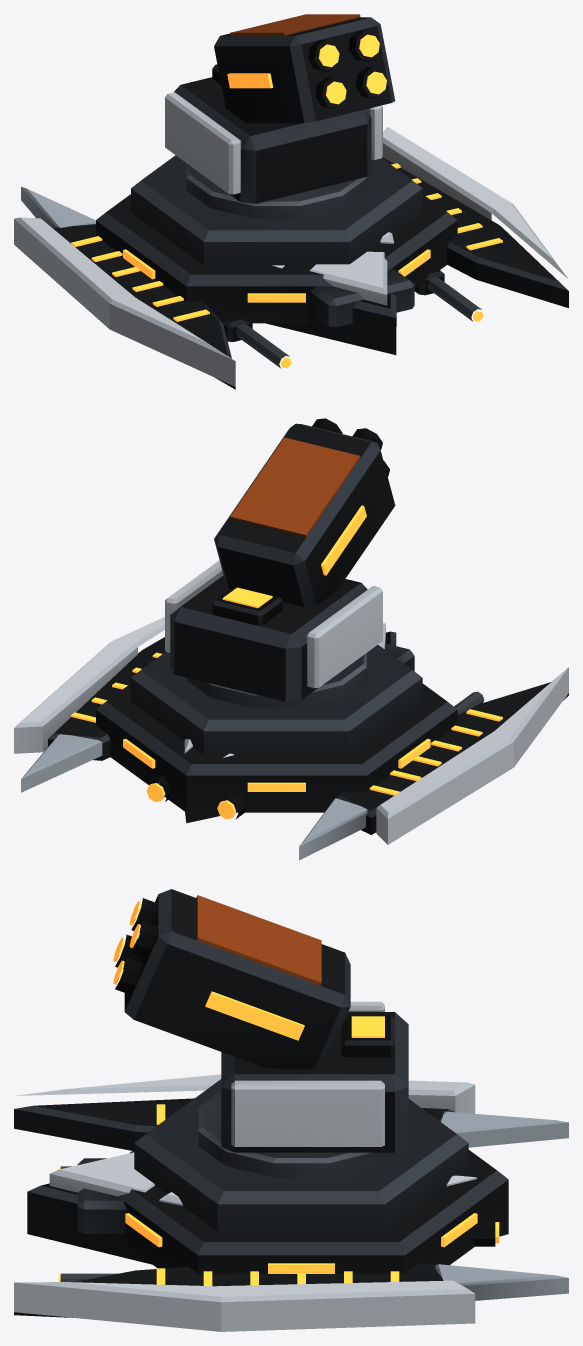
Rendered from vesper-craft.glb.
3 views of the same model, one above another, from view 1: azimuth 30°, elevation 25°; view 2: azimuth 150°, elevation 25°; view 3: azimuth 270°, elevation 25° (orthographic). The views are drawn at different scales.
Parts seen in each view (by area): view 1: vesper_missile_battery, vesper_diamond; view 2: vesper_missile_battery, vesper_diamond; view 3: vesper_missile_battery, vesper_diamond.
Boxes of the visible parts, x1,y1,x2,y2 form: vesper_missile_battery: [96, 14, 457, 327]; vesper_diamond: [14, 127, 568, 389]; vesper_missile_battery: [96, 418, 457, 812]; vesper_diamond: [14, 617, 568, 860]; vesper_missile_battery: [77, 889, 508, 1273]; vesper_diamond: [14, 1074, 568, 1331].
Bounding box in the file's own units: 1.6 × 1.09 × 1.66.
